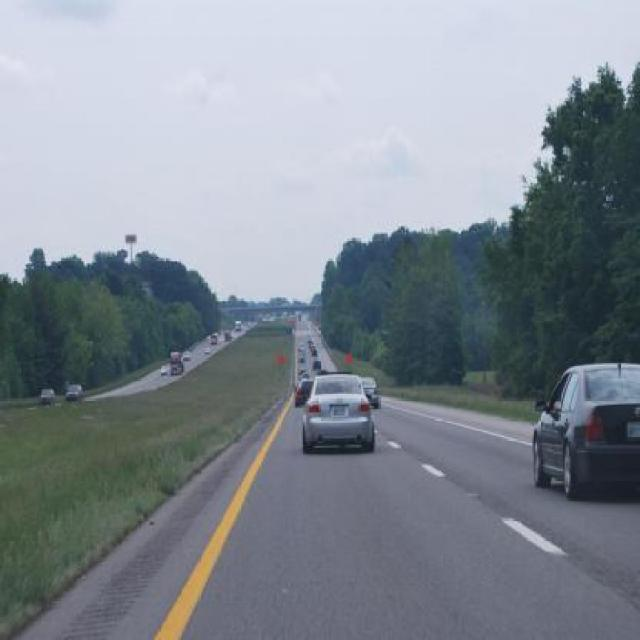License-Plates: (619, 414, 640, 446), (327, 401, 354, 422)
